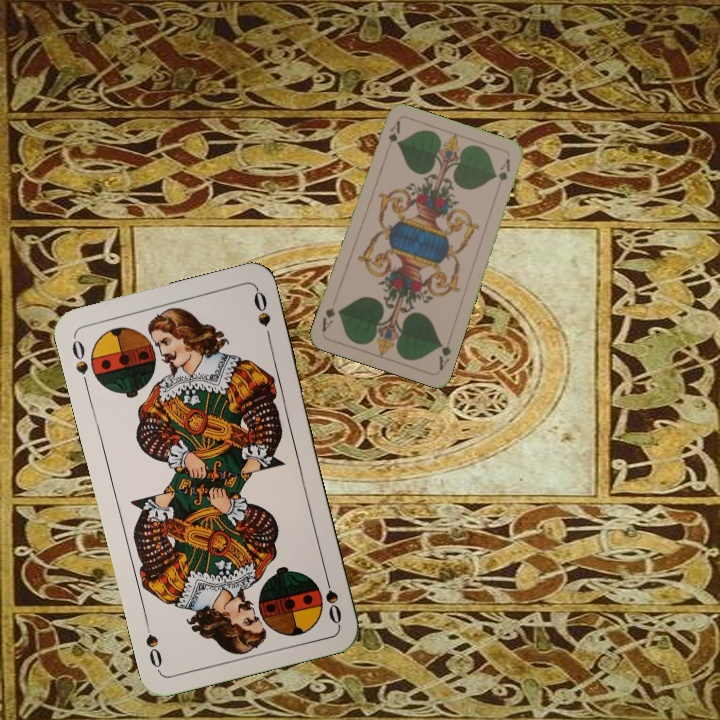GA: (435, 338, 454, 373), (384, 117, 403, 145)
SO: (320, 568, 344, 627), (68, 332, 91, 391)
